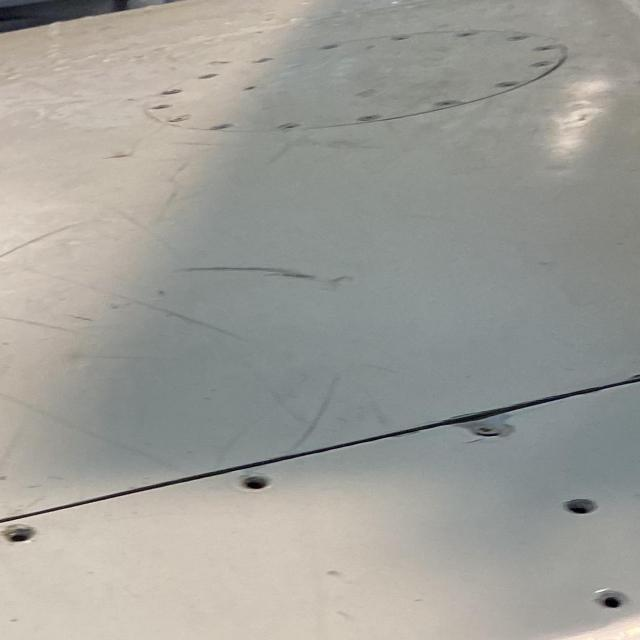Missing-head: (597, 588, 633, 609), (239, 469, 272, 489), (2, 522, 36, 541), (566, 496, 602, 513)
